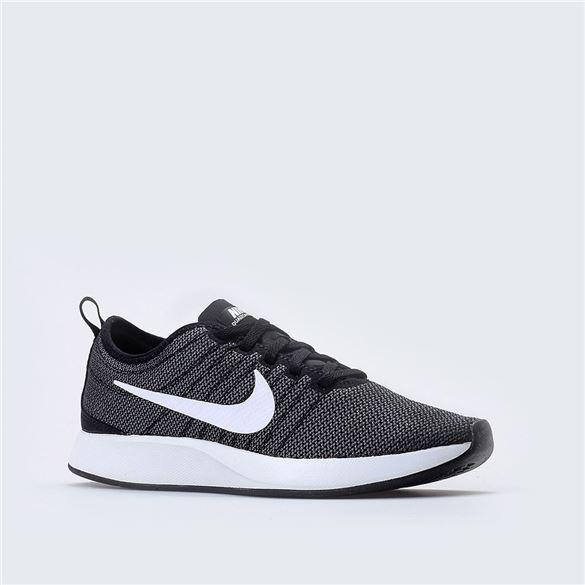nike: (124, 365, 279, 434)
